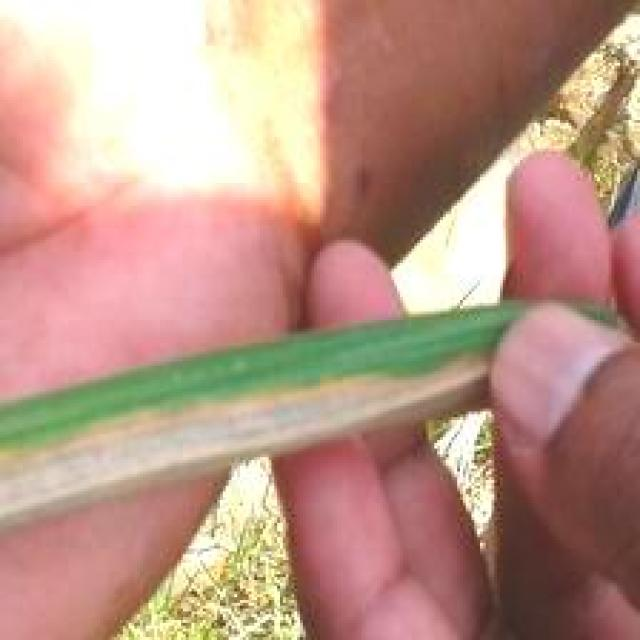Bacterial_Leaf_Blight: (54, 357, 540, 457)
